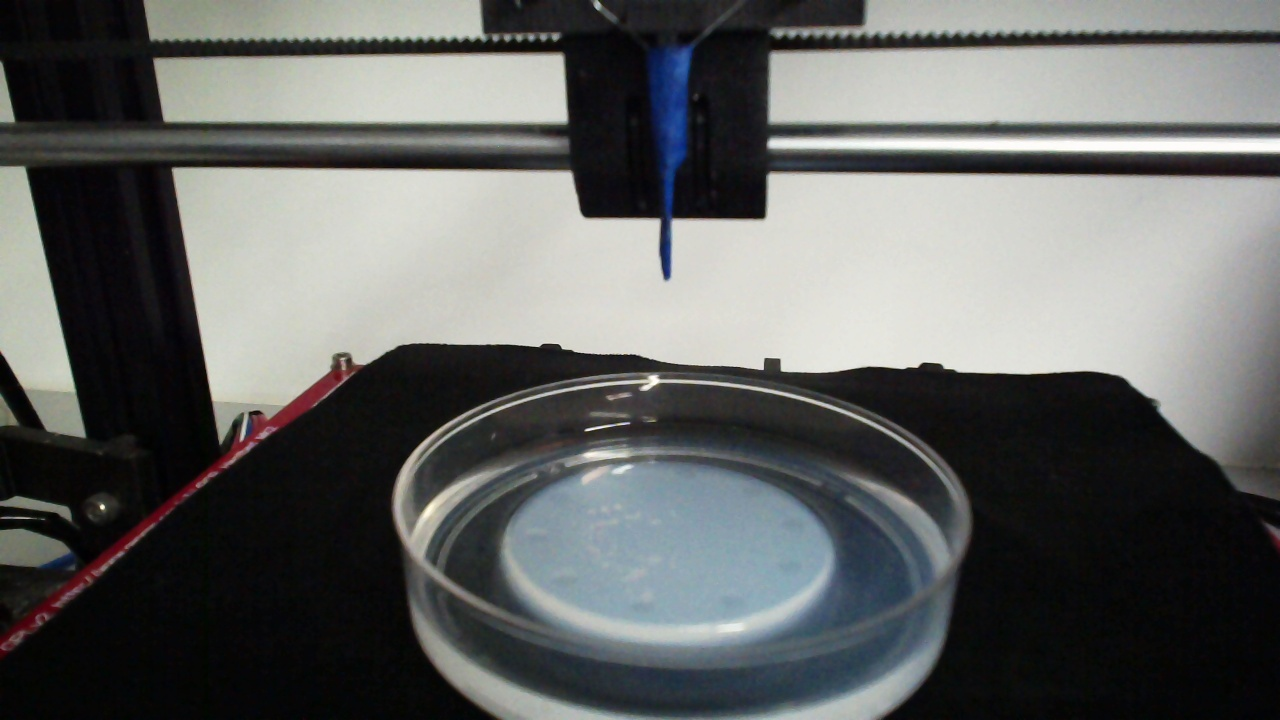groove: (672, 463, 700, 483), (626, 599, 657, 617), (547, 570, 578, 588), (524, 528, 550, 546), (719, 594, 746, 611), (549, 488, 574, 506), (781, 517, 807, 534), (778, 559, 803, 576), (740, 483, 765, 500)
needle: (651, 47, 691, 281)
